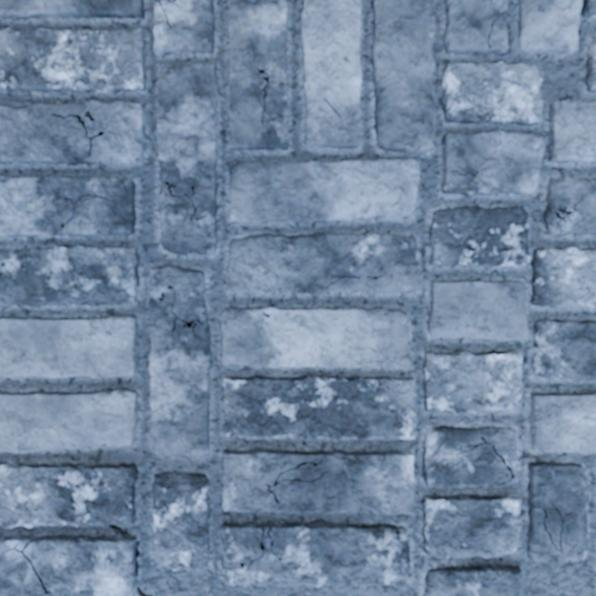brick: (220, 521, 410, 587), (222, 450, 416, 514), (222, 376, 416, 439), (230, 159, 419, 222), (227, 233, 421, 294), (221, 307, 410, 368), (149, 267, 210, 455), (158, 63, 218, 254), (0, 28, 144, 92), (373, 0, 433, 153), (0, 101, 145, 164), (301, 0, 361, 147), (228, 0, 287, 148), (0, 464, 137, 527), (0, 390, 137, 452), (0, 246, 138, 306), (0, 316, 137, 376), (0, 176, 134, 235), (17, 535, 135, 595), (443, 131, 544, 195), (423, 494, 523, 557), (442, 61, 542, 124), (528, 462, 589, 563), (430, 207, 529, 267), (424, 352, 521, 412), (428, 281, 526, 339), (152, 471, 208, 570), (423, 427, 516, 486), (530, 392, 595, 451), (532, 321, 595, 380), (532, 248, 595, 306), (444, 0, 507, 55), (154, 0, 213, 55), (519, 0, 581, 52), (544, 178, 595, 235), (424, 566, 522, 595), (549, 101, 595, 161), (0, 0, 143, 18), (0, 536, 43, 595), (586, 39, 595, 91), (582, 0, 595, 17)
crack: (455, 436, 515, 485), (2, 538, 51, 595), (153, 0, 177, 30), (108, 523, 131, 536), (135, 579, 152, 595), (134, 540, 139, 574), (258, 308, 271, 318)
